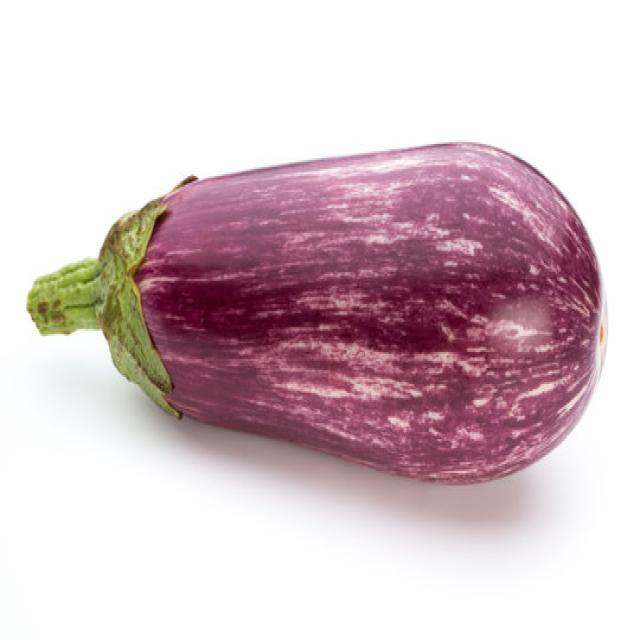Eggplant: (26, 139, 608, 485)
